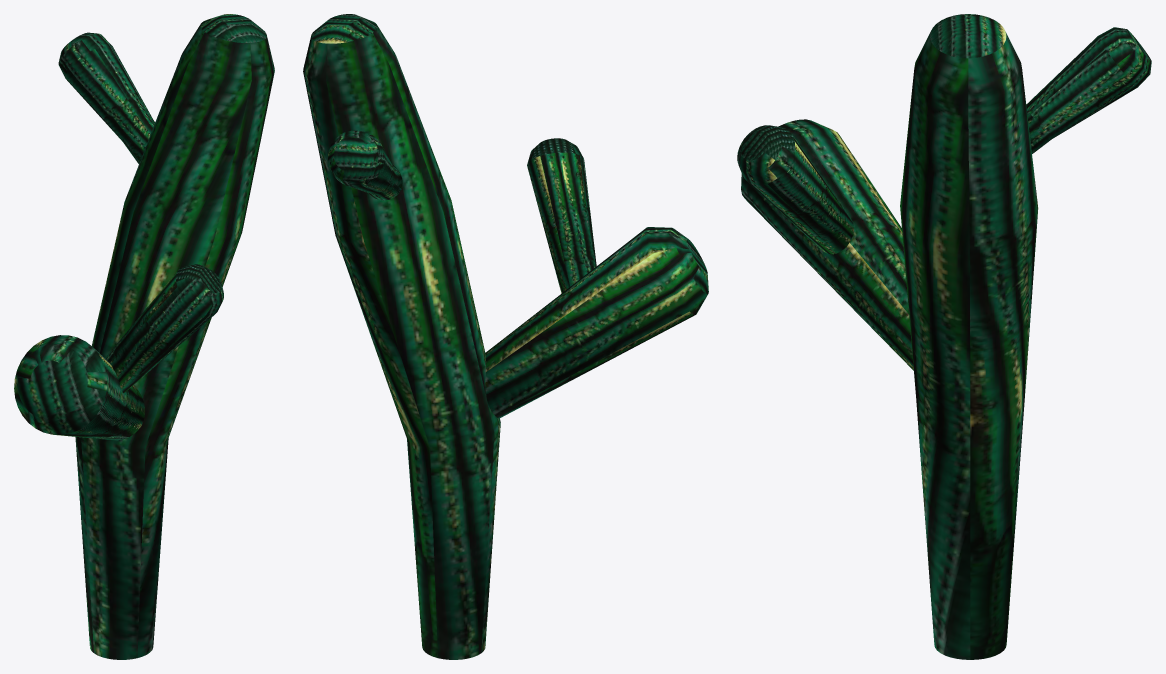
Rendered from CactusNormal.fbx.
3 renders of one model, left to right at view 1: azimuth 30°, elevation 25°; view 2: azimuth 150°, elevation 25°; view 3: azimuth 270°, elevation 25°, orthographic. The views are drawn at different scales.
Parts seen in each view (by area): view 1: CactusNormal; view 2: CactusNormal; view 3: CactusNormal.
Boxes of the visible parts, left/top/right/bottom form: CactusNormal: left=14, top=14, right=274, bottom=659; CactusNormal: left=303, top=14, right=708, bottom=659; CactusNormal: left=737, top=14, right=1151, bottom=659.
Size of the model in its own units: 0.2076 by 0.2039 by 0.3718.
